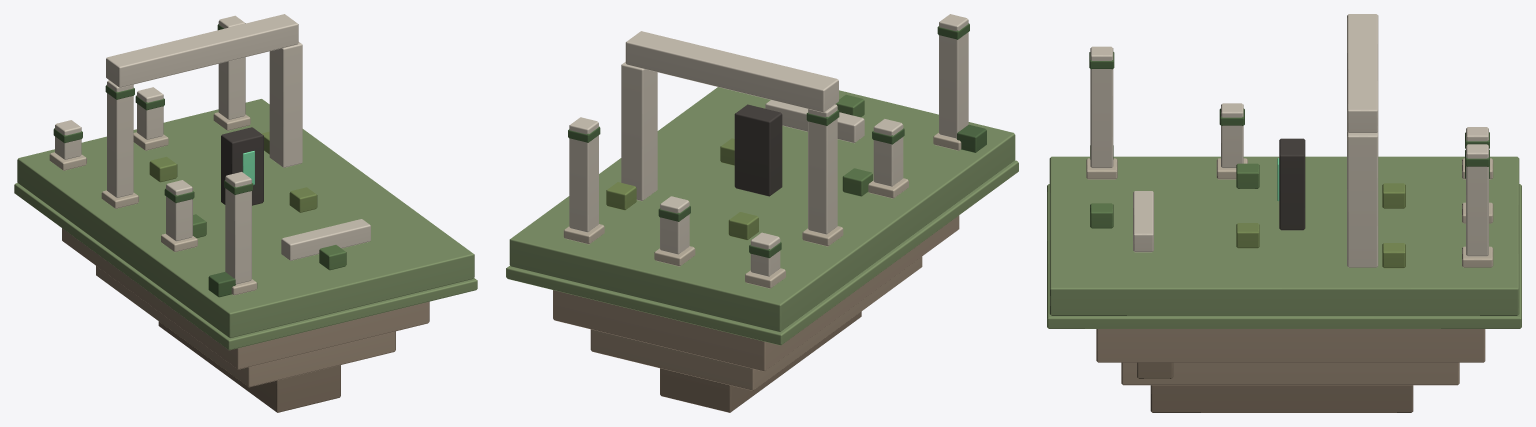
Rendered from region_22.glb.
3 views of the same model, side by side, from view 1: azimuth 30°, elevation 25°; view 2: azimuth 150°, elevation 25°; view 3: azimuth 270°, elevation 25° (orthographic). The views are drawn at different scales.
Parts seen in each view (by area): view 1: region_22_static; view 2: region_22_static; view 3: region_22_static.
Boxes of the visible parts, box(x1,y1,x2,y2) form: region_22_static: box(14, 14, 477, 412); region_22_static: box(506, 14, 1018, 412); region_22_static: box(1047, 14, 1521, 412).
Size of the model in its own units: 6.1 by 6.95 by 9.1.
